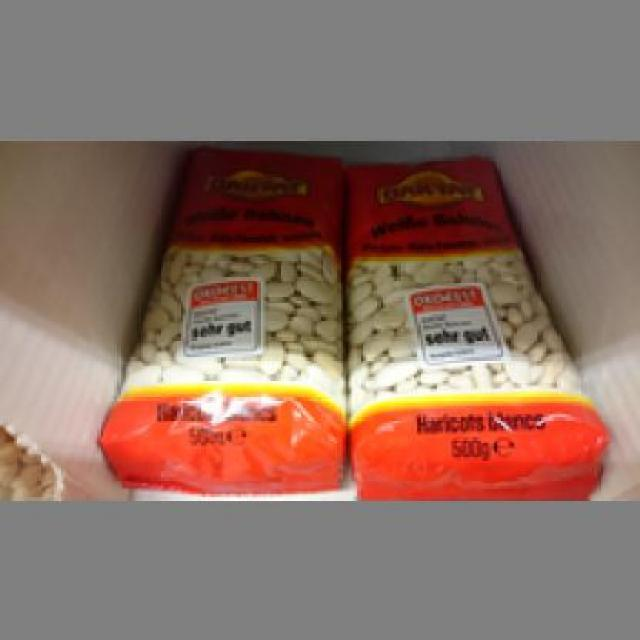Beans: (343, 151, 606, 504), (100, 134, 340, 483)
